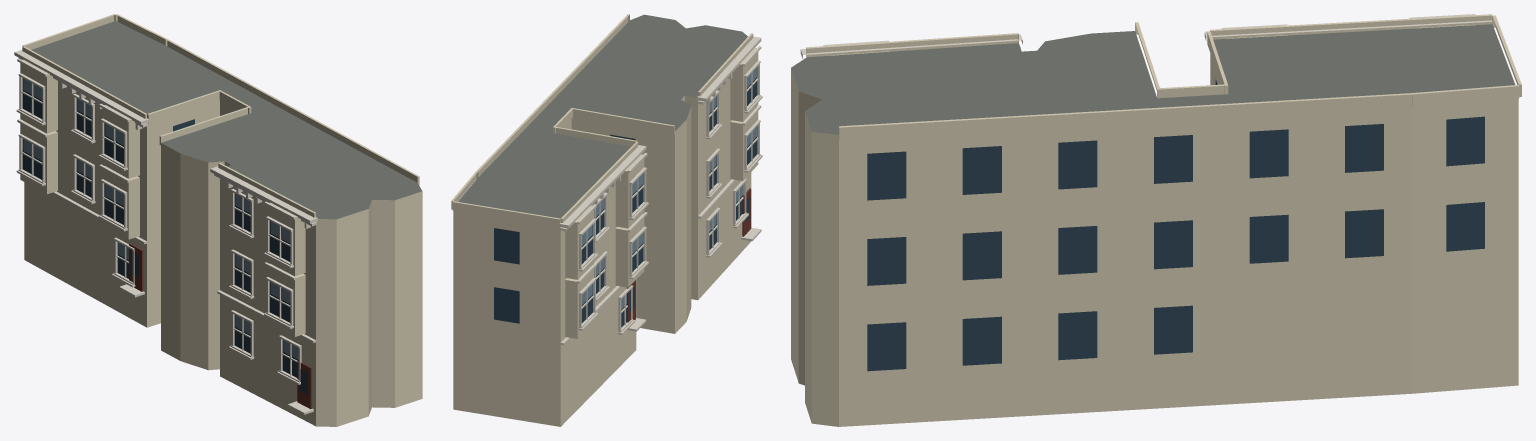
The picture shows the model from 3 angles, left to right: view 1: azimuth 30°, elevation 25°; view 2: azimuth 150°, elevation 25°; view 3: azimuth 270°, elevation 25°; orthographic projection. The views are drawn at different scales.
Visible parts, largest first — view 1: Footprint 0 / surface 2, Footprint 0 / surface 1, Facade bay volumes, Cornices and window frames, Inset glazing, Sky reflection panels, Storefronts and doors; view 2: Footprint 0 / surface 2, Footprint 0 / surface 1, Facade bay volumes, Cornices and window frames, Inset glazing, Sky reflection panels, Storefronts and doors; view 3: Footprint 0 / surface 2, Footprint 0 / surface 1, Inset glazing, Facade bay volumes, Cornices and window frames.
Part boxes in pixels (x1,y1,x2,y2): Footprint 0 / surface 2: (24, 81, 422, 426); Footprint 0 / surface 1: (31, 21, 421, 219); Facade bay volumes: (20, 14, 419, 336); Cornices and window frames: (14, 50, 317, 414); Inset glazing: (22, 78, 307, 394); Sky reflection panels: (23, 78, 298, 359); Storefronts and doors: (129, 243, 311, 409); Footprint 0 / surface 2: (453, 78, 751, 426); Footprint 0 / surface 1: (458, 14, 747, 218); Facade bay volumes: (451, 14, 758, 338); Cornices and window frames: (559, 36, 762, 345); Inset glazing: (494, 67, 757, 327); Sky reflection panels: (581, 67, 756, 309); Storefronts and doors: (626, 188, 751, 322); Footprint 0 / surface 2: (791, 54, 1518, 426); Footprint 0 / surface 1: (791, 24, 1515, 134); Inset glazing: (867, 79, 1484, 371); Facade bay volumes: (806, 14, 1521, 139); Cornices and window frames: (800, 14, 1492, 58).
Size of the model in its own units: 10.66 by 12.21 by 26.89.
